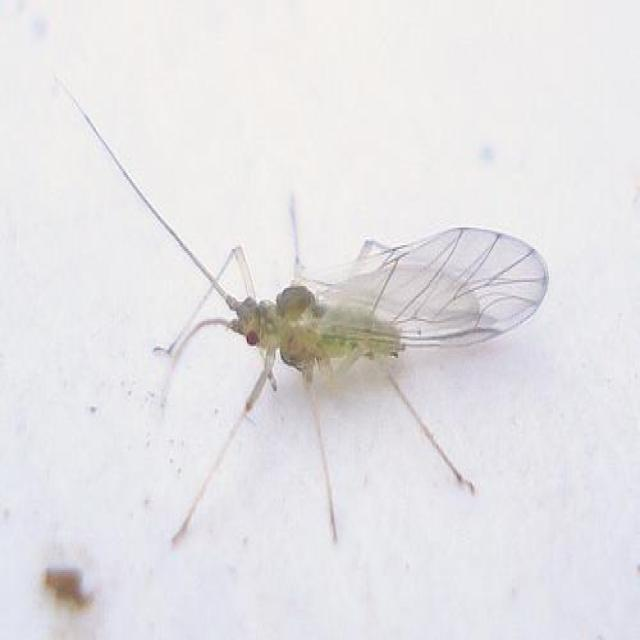Aphids: (65, 75, 559, 565)
